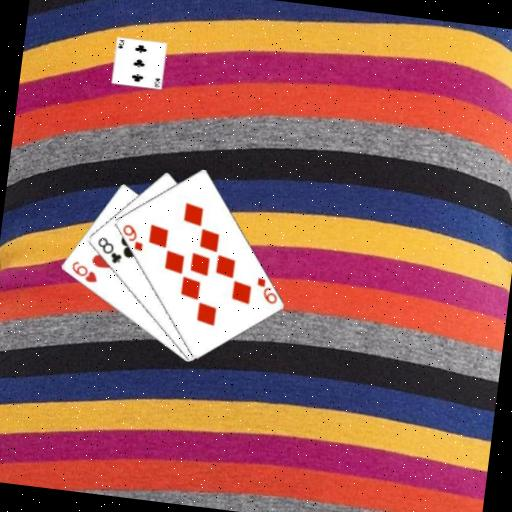6H: (67, 258, 101, 285)
8C: (92, 234, 125, 266)
9D: (117, 221, 147, 253), (251, 274, 281, 306)
